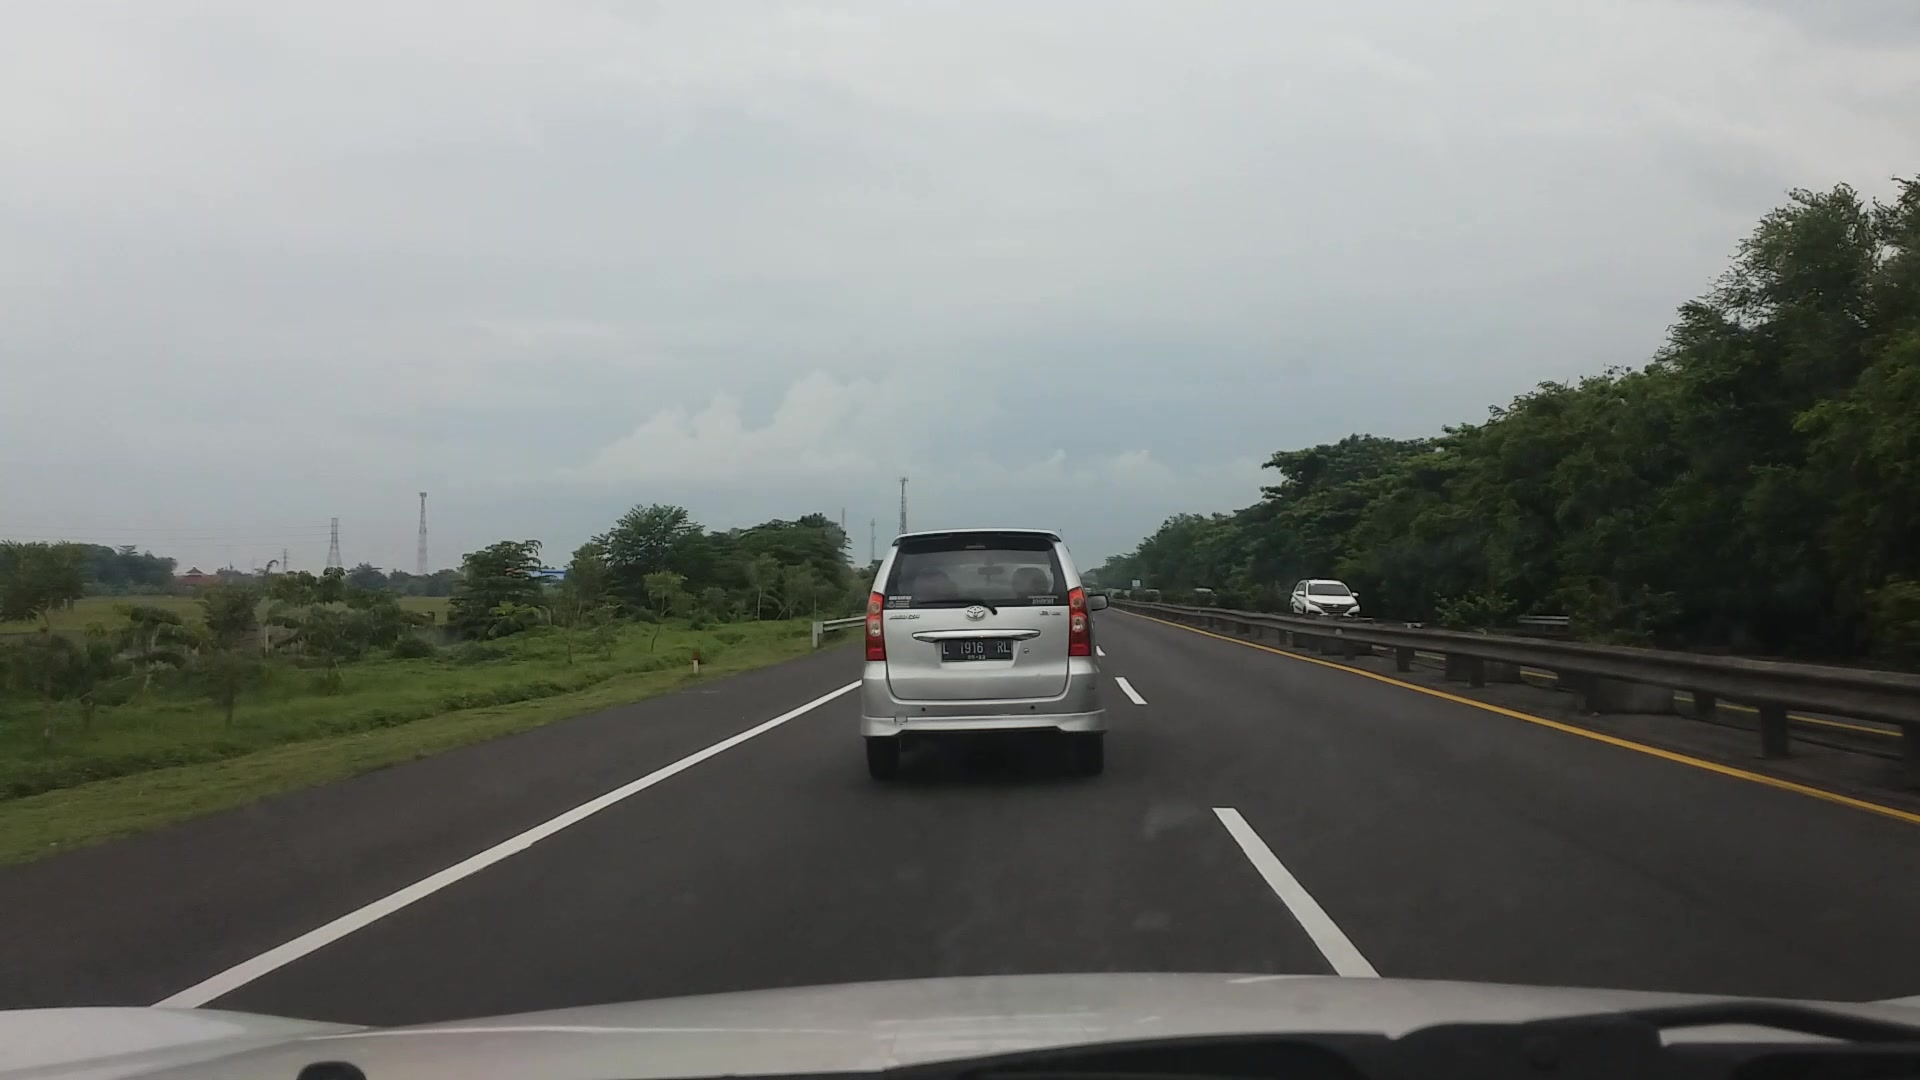plate_positive: (940, 638, 1011, 661)
